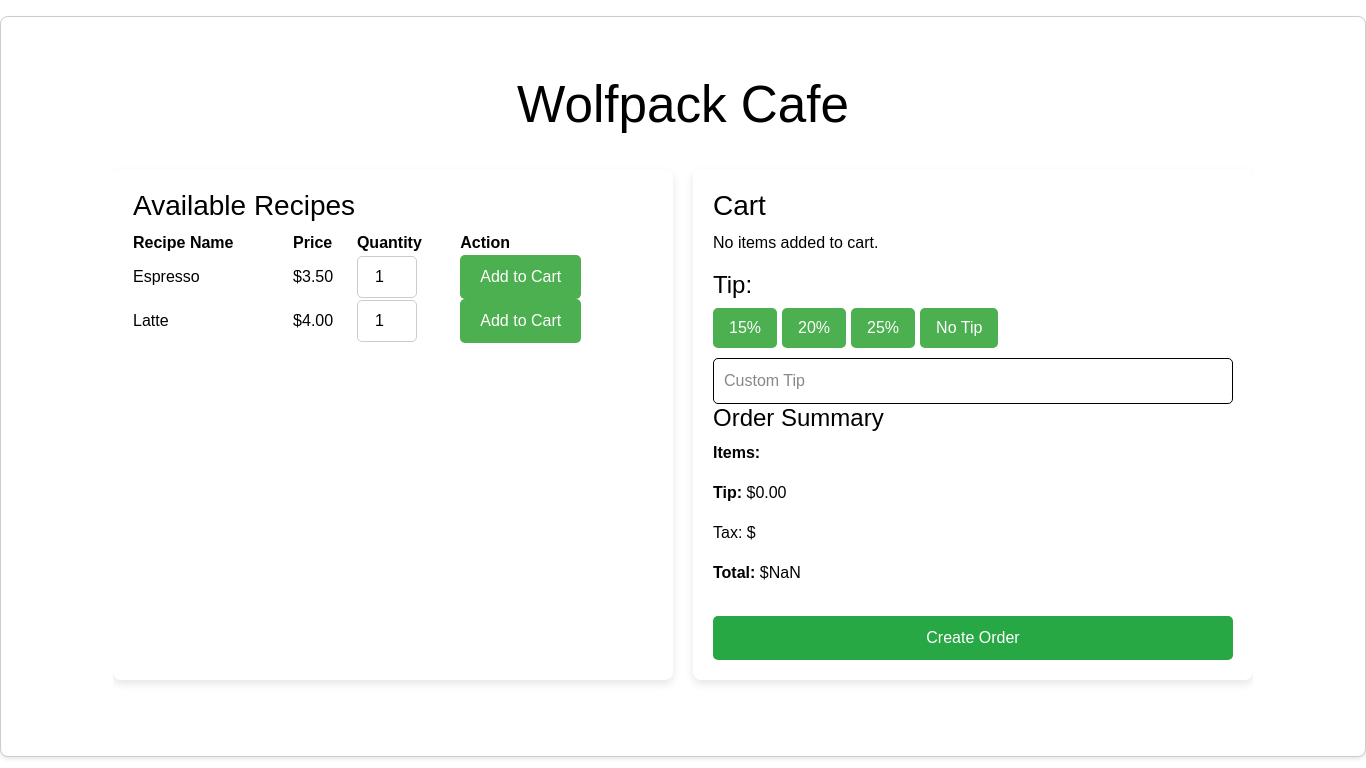
Test: CreateOrderComponent › displays validation errors when required fields are empty
Note: **B. Click "Create Order" Button Without Adding Items**
Click the button "Create Order": (973, 638) top-left (713, 616), bottom-right (1233, 660)
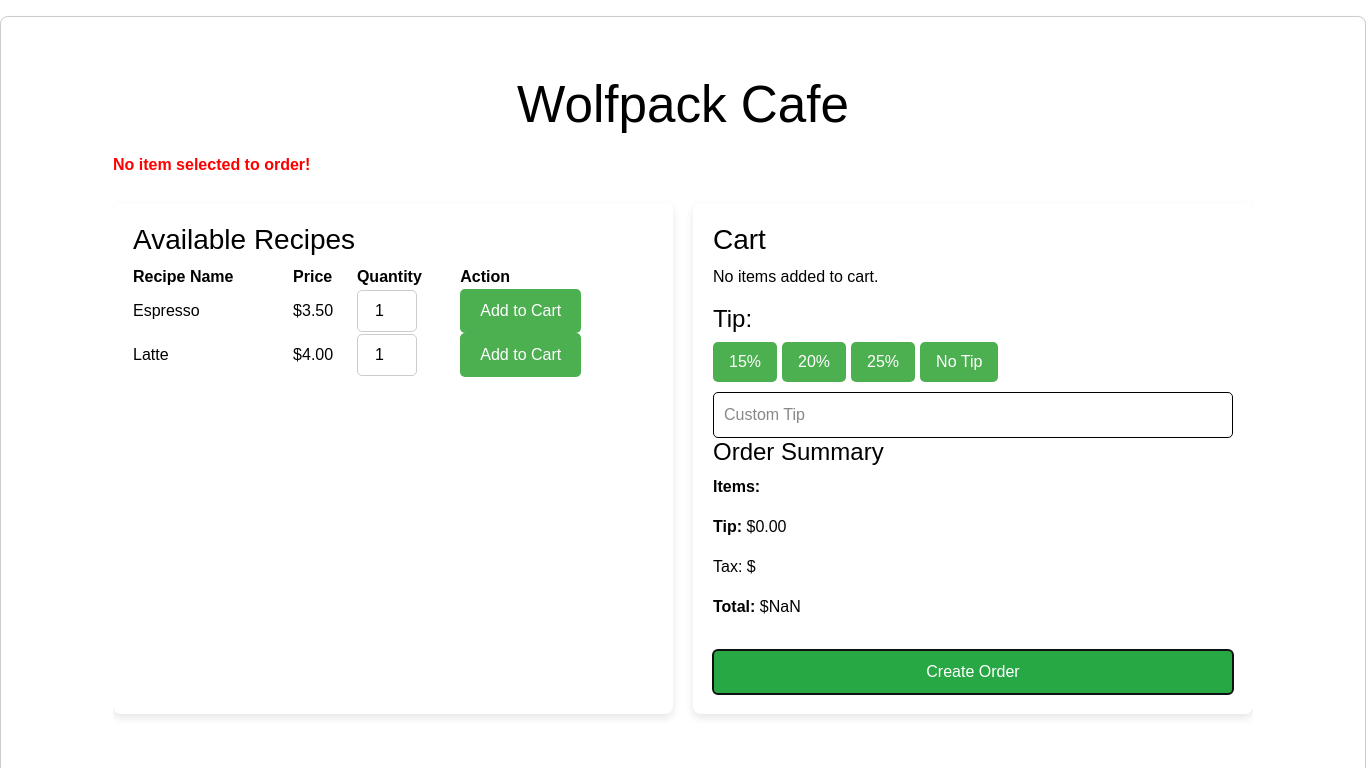
expect the text "No item selected to order!" is shown: met, box top-left (113, 156), bottom-right (310, 173)
